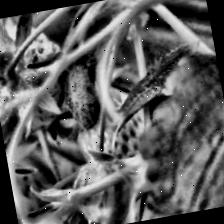Gray Mold: (44, 35, 112, 135)
